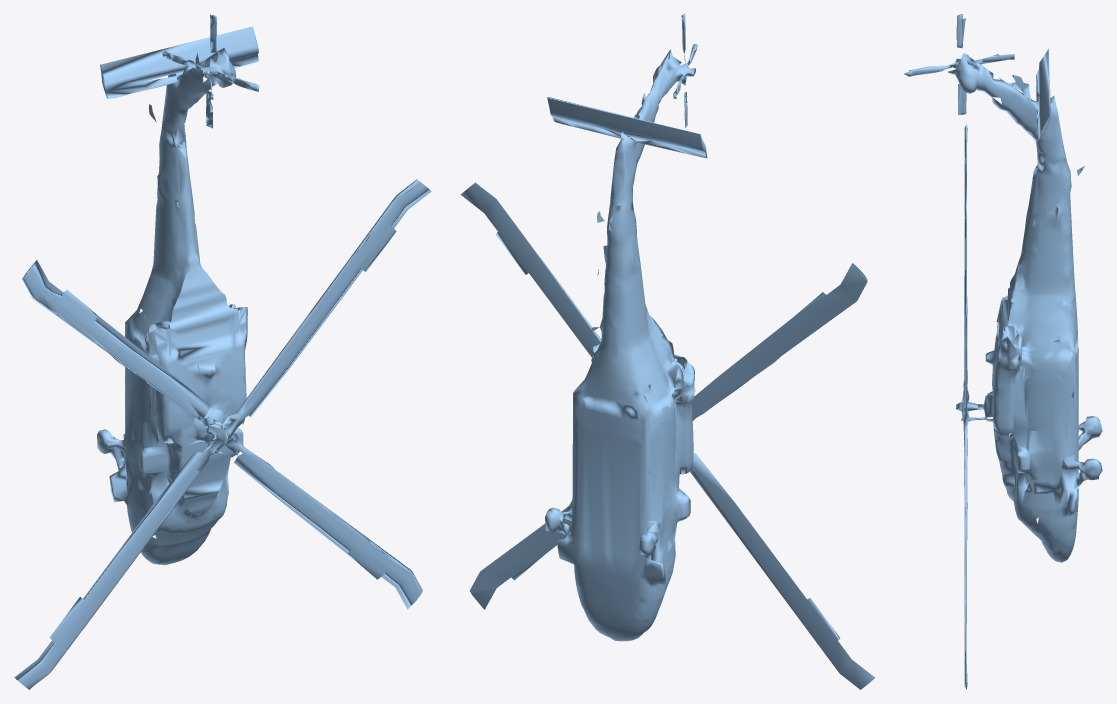
The model's file is helicopter.glb.
3 renders of one model, left to right at view 1: azimuth 30°, elevation 25°; view 2: azimuth 150°, elevation 25°; view 3: azimuth 270°, elevation 25°, orthographic. The views are drawn at different scales.
Visible parts, largest first — view 1: target_helicopter; view 2: target_helicopter; view 3: target_helicopter.
Part boxes in pixels (box(x1,y1,x2,y2)): target_helicopter: box(14, 14, 431, 689); target_helicopter: box(460, 14, 875, 689); target_helicopter: box(904, 14, 1102, 689).
Size of the model in its own units: 0.3924 by 0.5785 by 0.177.
